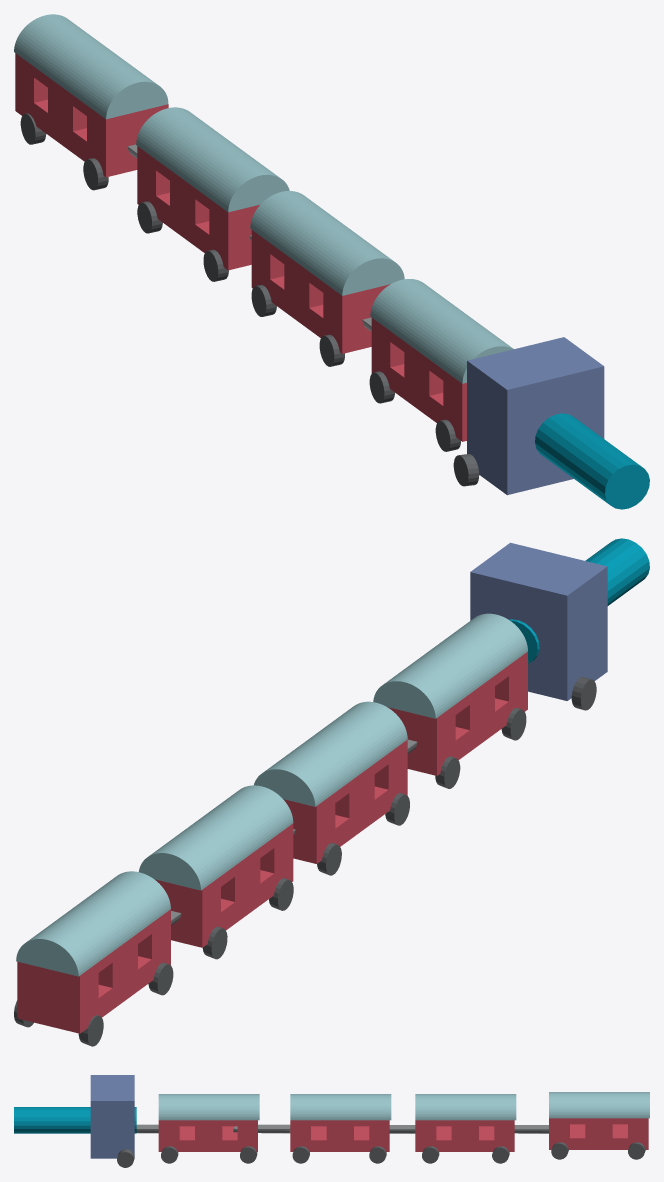
File: Trains.glb
The picture shows the model from 3 angles, top to bottom: view 1: azimuth 30°, elevation 25°; view 2: azimuth 150°, elevation 25°; view 3: azimuth 270°, elevation 25°; orthographic projection. The views are drawn at different scales.
Visible parts, largest first — view 1: Mesh_Mesh_head_geo.001_lambert2SG.001; view 2: Mesh_Mesh_head_geo.001_lambert2SG.001; view 3: Mesh_Mesh_head_geo.001_lambert2SG.001.
Boxes of the visible parts, x1,y1,x2,y2 form: Mesh_Mesh_head_geo.001_lambert2SG.001: (14, 14, 649, 509); Mesh_Mesh_head_geo.001_lambert2SG.001: (14, 538, 649, 1046); Mesh_Mesh_head_geo.001_lambert2SG.001: (14, 1075, 649, 1167).
Bounding box in the file's own units: 35.5 × 33 × 290.
